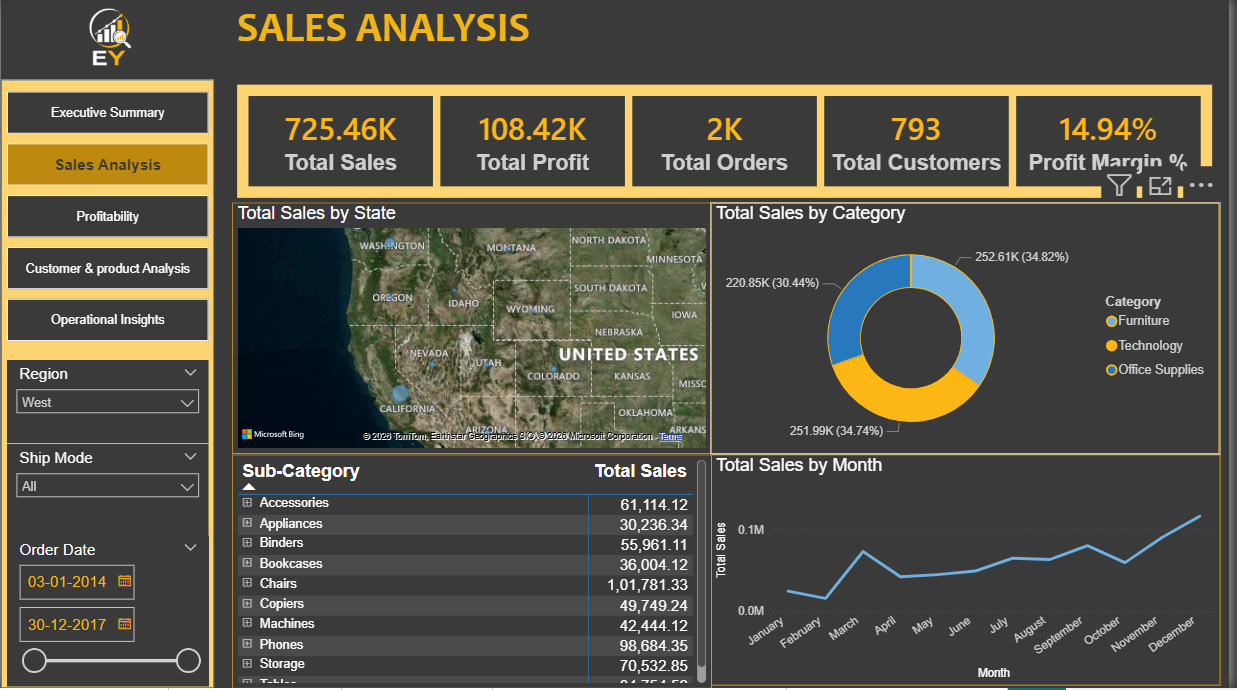

This screenshot's page, from the dashboard's own definition file:
{"tool":"powerbi","page":{"name":"Sales Analysis","canvas":[1280,720],"ordinal":1},"visuals":[{"type":"textbox","box":[240,0,1030,98],"z":0},{"type":"shape","box":[0,86,222,634],"z":1000},{"type":"cardVisual","fields":{"Data":["Data.Total Sales","Data.Total Profit","Data.Total Orders","Customer.Total Customers","Data.Profit Margin %"]},"box":[240,86,1030,128],"z":2000},{"type":"image","box":[0,0,222,86],"z":3000},{"type":"lineChart","fields":{"Y":["Data.Total Sales"],"Category":["Data.Order Date.Variation.Date Hierarchy.Month"]},"box":[739.3,476.7,531.4,240.7],"z":4000},{"type":"map","fields":{"Category":["Location.State"],"Size":["Data.Total Sales"]},"box":[240,214,500,262],"z":5000},{"type":"donutChart","fields":{"Category":["Product.Category"],"Y":["Data.Total Sales"]},"box":[740,214,530,262],"z":6000},{"type":"pivotTable","fields":{"Rows":["Product.Sub-Category","Product.Product Name"],"Values":["Data.Total Sales"]},"box":[240,476,500,244],"z":7000},{"type":"pageNavigator","box":[6.7,98.3,210,261.7],"z":8000},{"type":"slicer","fields":{"Values":["Location.Region"]},"box":[6.7,378.3,210,86.7],"z":9000},{"type":"slicer","fields":{"Values":["ShipMode.Ship Mode"]},"box":[6.7,465,210,96.7],"z":10000},{"type":"slicer","fields":{"Values":["Data.Order Date"]},"box":[6.7,561.7,210,156.7],"z":11000}]}

Visuals, with their boxes in screenshot pixels (x1, y1, x2, y2), scaled from the page's 1280x720 canvas onto the 1237x690 screenshot:
textbox: [left=232, top=0, right=1227, bottom=94]
shape: [left=0, top=82, right=215, bottom=689]
cardVisual - Data.Total Sales x Data.Total Profit: [left=232, top=82, right=1227, bottom=205]
image: [left=0, top=0, right=215, bottom=82]
lineChart - Data.Total Sales x Data.Order Date.Variation.Date Hierarchy.Month: [left=714, top=457, right=1228, bottom=688]
map - Location.State x Data.Total Sales: [left=232, top=205, right=715, bottom=456]
donutChart - Product.Category x Data.Total Sales: [left=715, top=205, right=1227, bottom=456]
pivotTable - Product.Sub-Category x Product.Product Name: [left=232, top=456, right=715, bottom=689]
pageNavigator: [left=6, top=94, right=209, bottom=345]
slicer - Location.Region: [left=6, top=363, right=209, bottom=446]
slicer - ShipMode.Ship Mode: [left=6, top=446, right=209, bottom=538]
slicer - Data.Order Date: [left=6, top=538, right=209, bottom=688]
